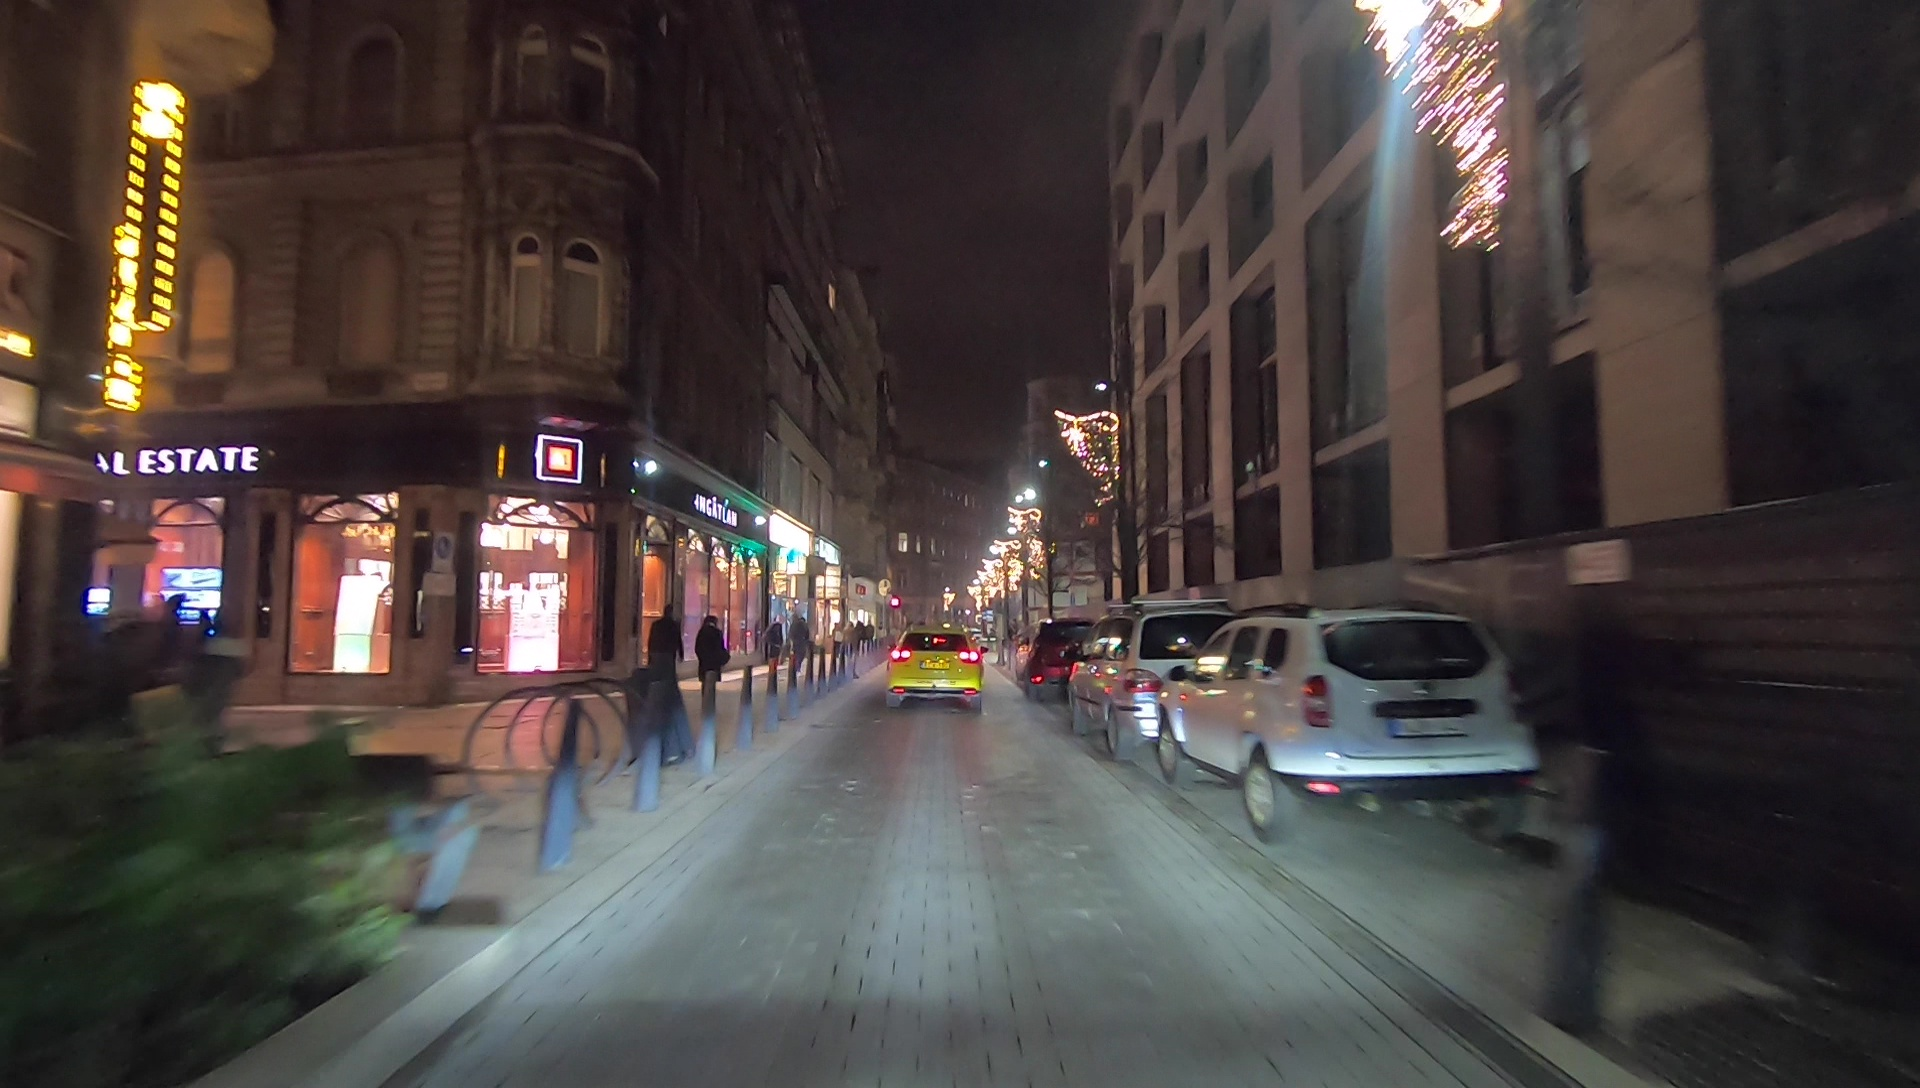person: (649, 602, 686, 702), (697, 611, 725, 711), (788, 615, 808, 673), (765, 620, 783, 679)
